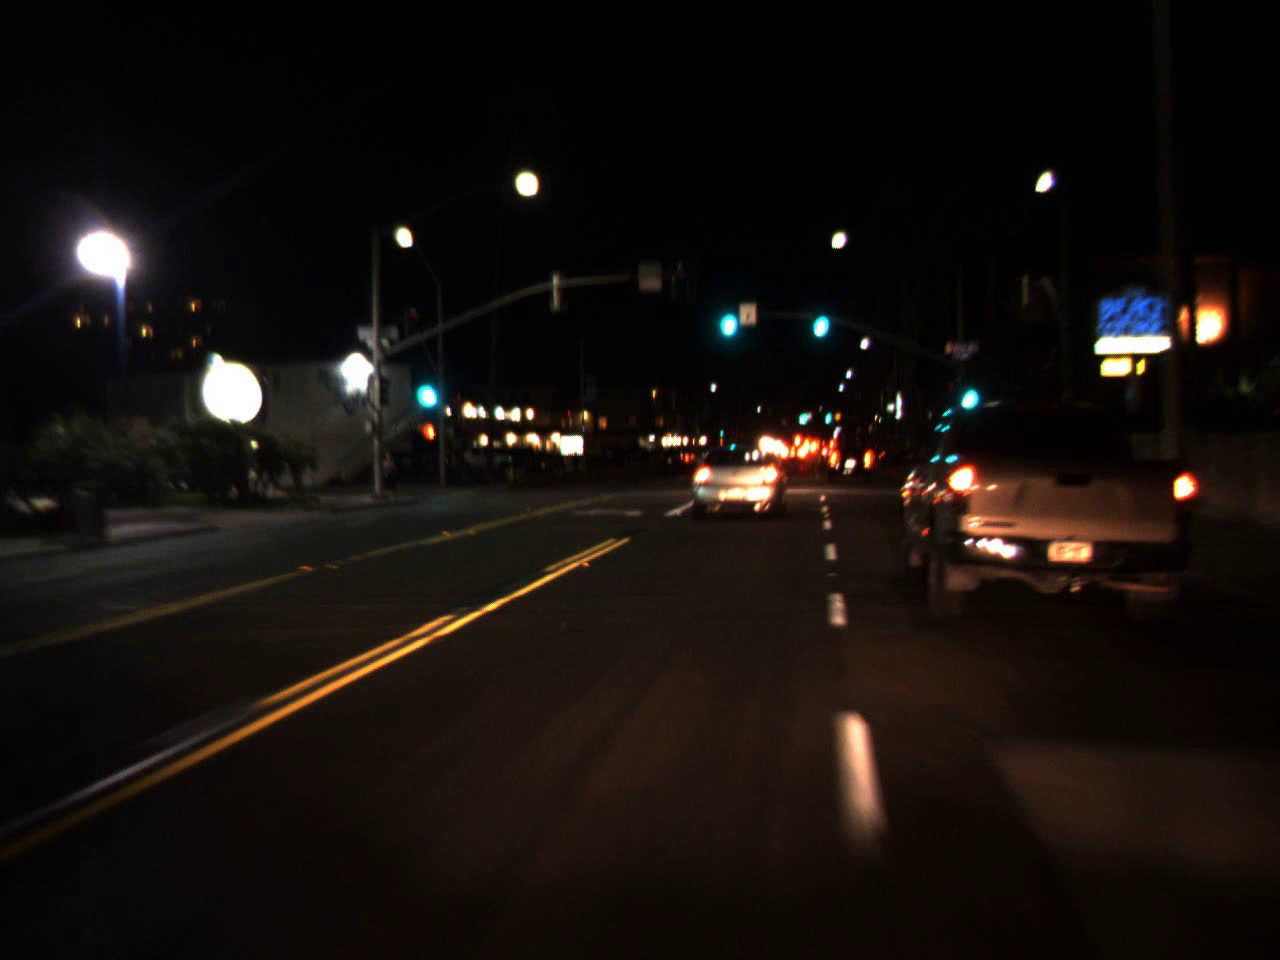go: (409, 354, 441, 417), (713, 285, 740, 345), (955, 363, 982, 417), (807, 288, 833, 345), (792, 401, 811, 428), (823, 400, 833, 427)
